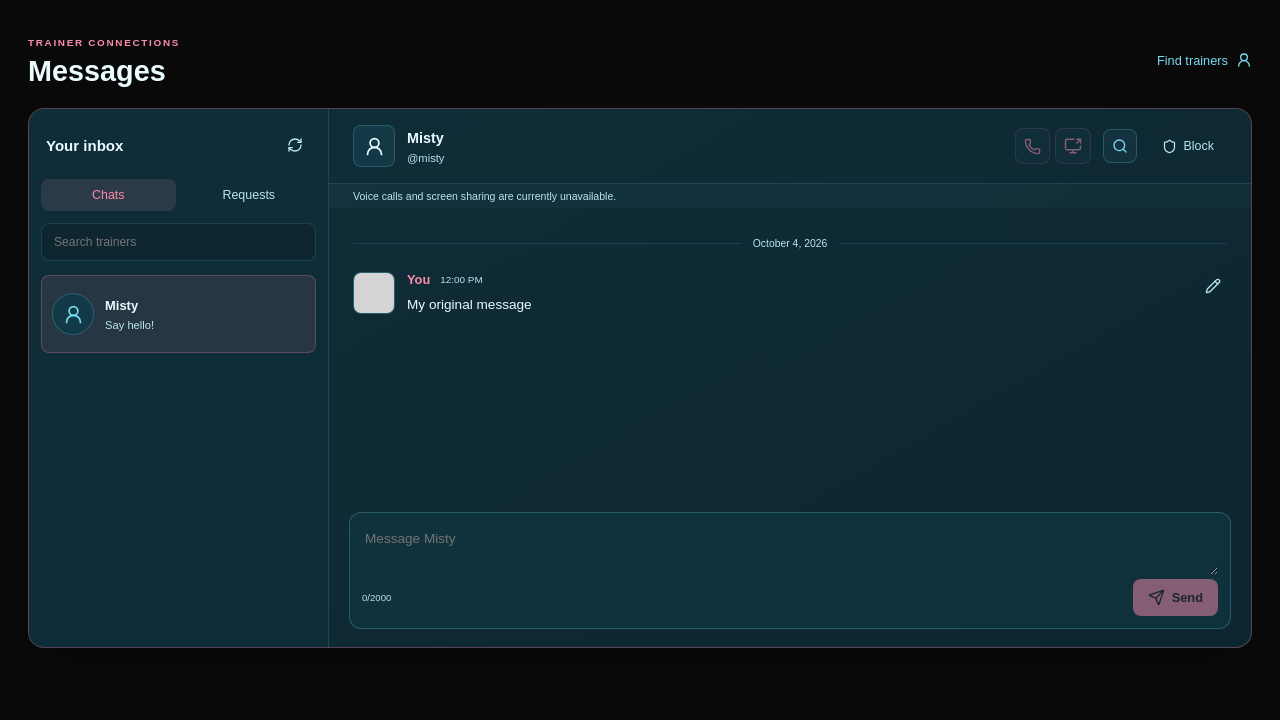
Test case: messages inbox › offers context actions and lets the sender edit their own message
This screenshot has width=1280, height=720.
Check: the button named "Edit message: My original message" is shown, box [1199,272,1227,300]
Right-click the text "My original message".
right_click(461, 280)  # box [353,269,1227,319]
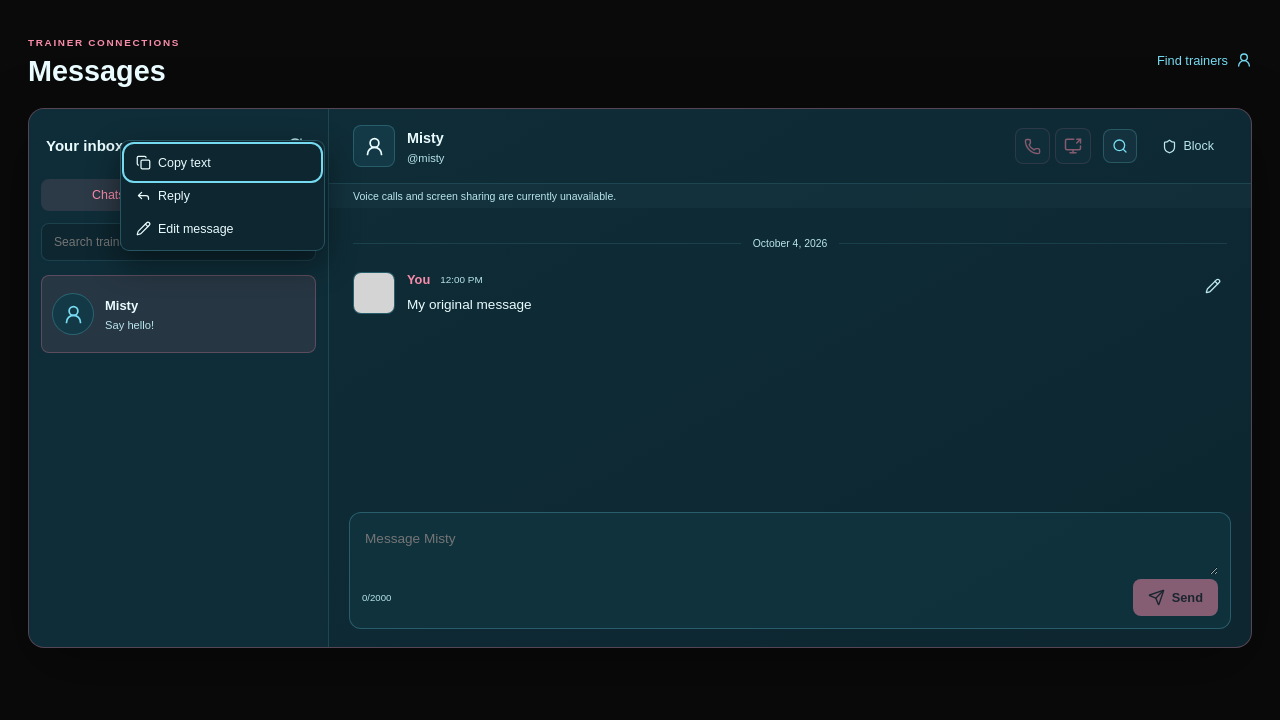
Check: the menu item "Copy text" is shown, box [126,146,319,179]
Check: the menu item "Reply" is shown, box [126,179,319,212]
Click the menu item "Edit message".
click(222, 228)  # box [126,212,319,245]
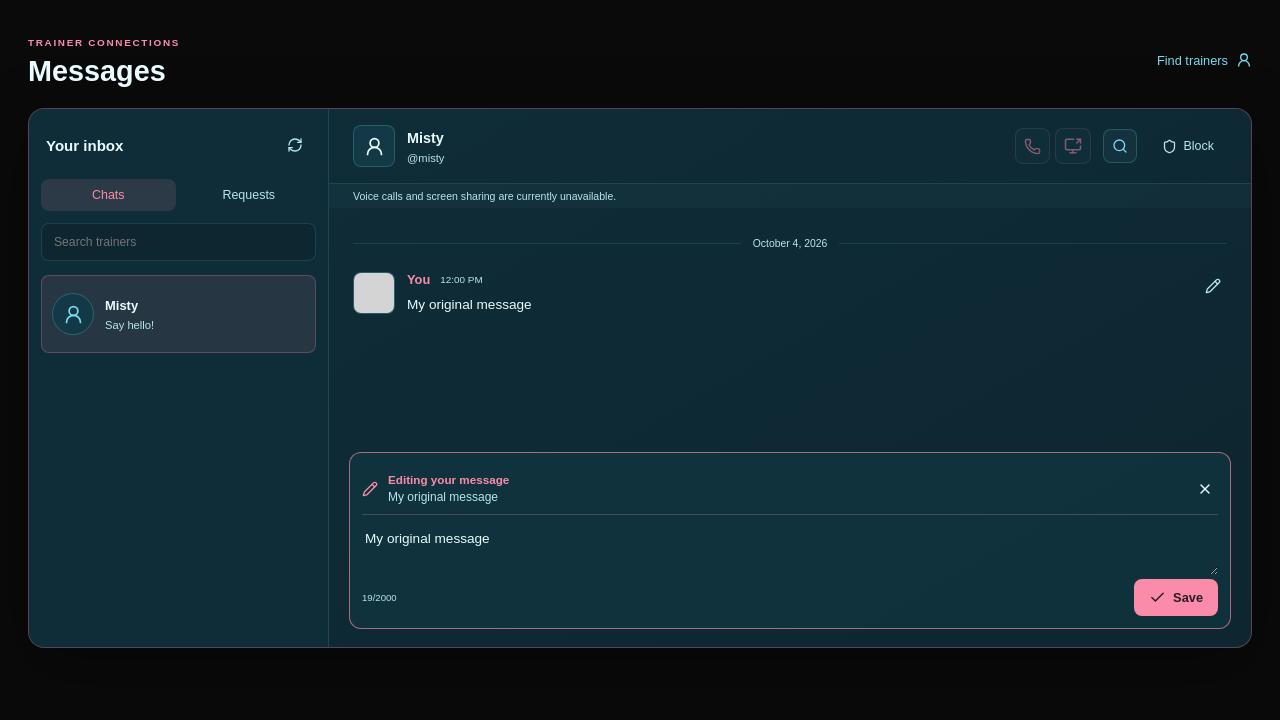
Check: the text box named "Edit message" holds "My original message"
Replace the text in the text box named "Edit message" with "Updated message" at x=790, y=550, box [362,525,1218,575]
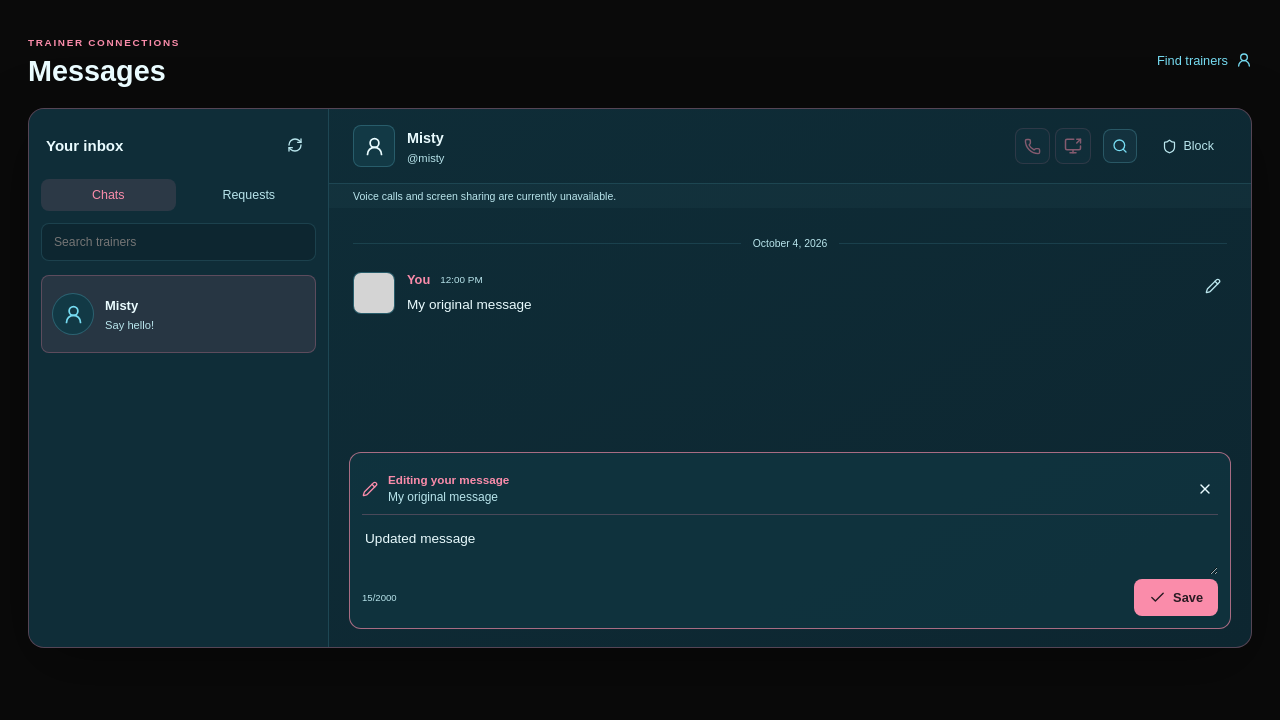
Click the button with aria-label "Save edited message".
click(1176, 598)  # box [1134,579,1218,616]
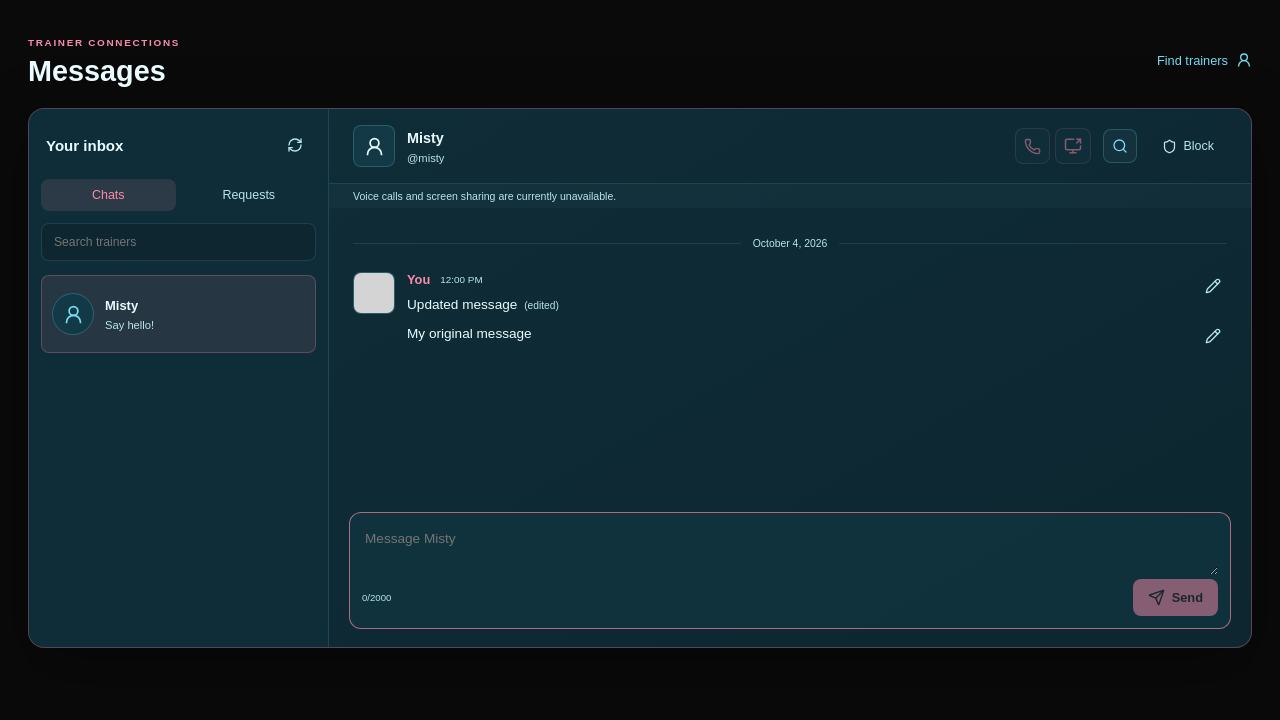
Check: the text "Updated message (edited)" is shown, box [407,297,559,312]
